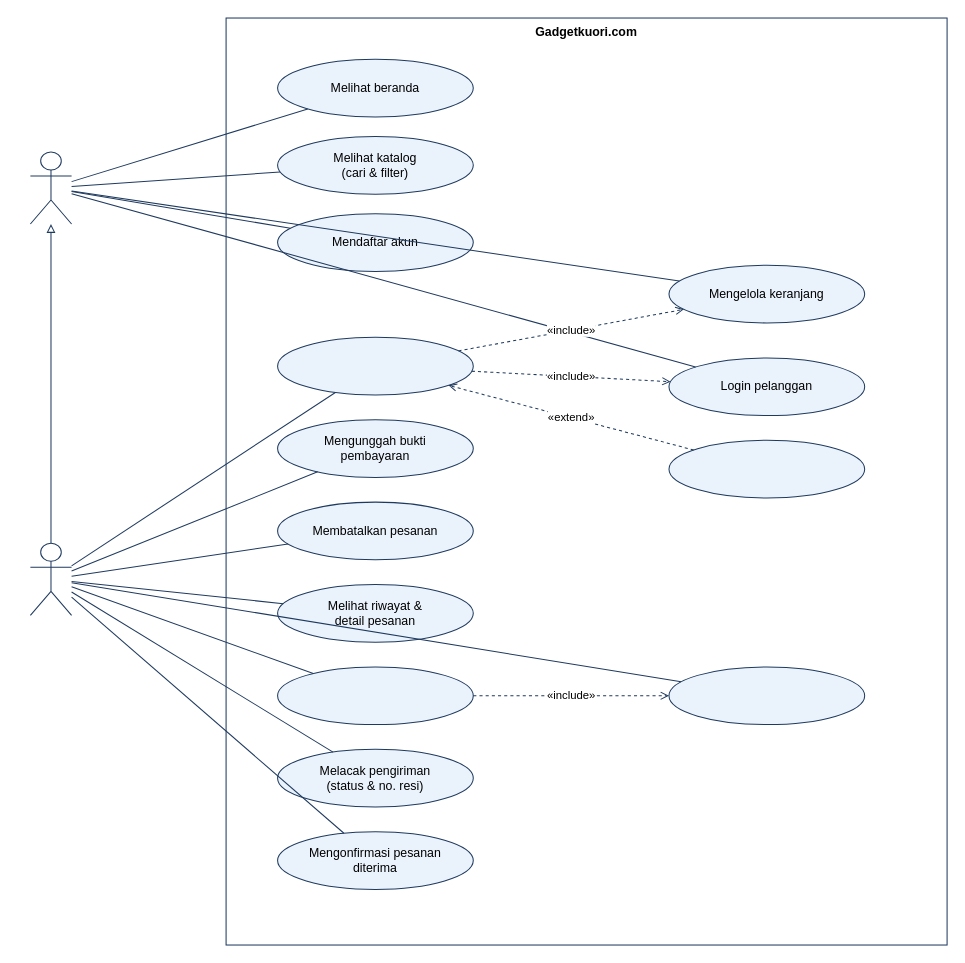
Image size: 965x963. Some labels were removed from this diagram. Each missing label, with the centre of its shape:
Checkout & pilih metode pembayaran: pixel 375 365
Melihat garansi: pixel 766 695
Mengajukan klaim garansi: pixel 375 695
Mengisi alamat & memilih kurir: pixel 766 468
Pelanggan: pixel 50 578
Pengunjung: pixel 50 187
